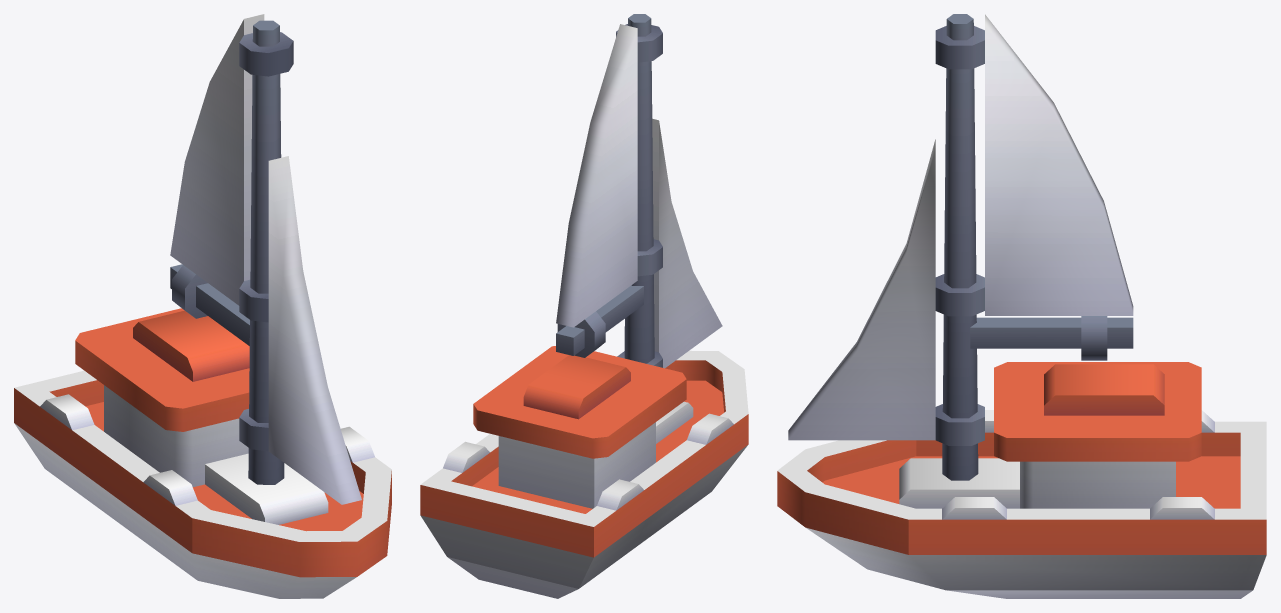
Rendered from k-watercraft-boat-sail-a.glb.
3 views of the same model, side by side, from view 1: azimuth 30°, elevation 25°; view 2: azimuth 150°, elevation 25°; view 3: azimuth 270°, elevation 25° (orthographic). The views are drawn at different scales.
Parts seen in each view (by area): view 1: boat-sail-a, sail; view 2: boat-sail-a, sail; view 3: boat-sail-a, sail.
Part boxes in pixels (<box>): boat-sail-a: <box>14,308,391,598</box>; sail: <box>170,14,361,504</box>; boat-sail-a: <box>420,346,748,598</box>; sail: <box>556,14,722,368</box>; boat-sail-a: <box>777,362,1266,598</box>; sail: <box>788,14,1133,480</box>.
Size of the model in its own units: 1.78 by 4.74 by 3.77.
1 material, 1 textured.
